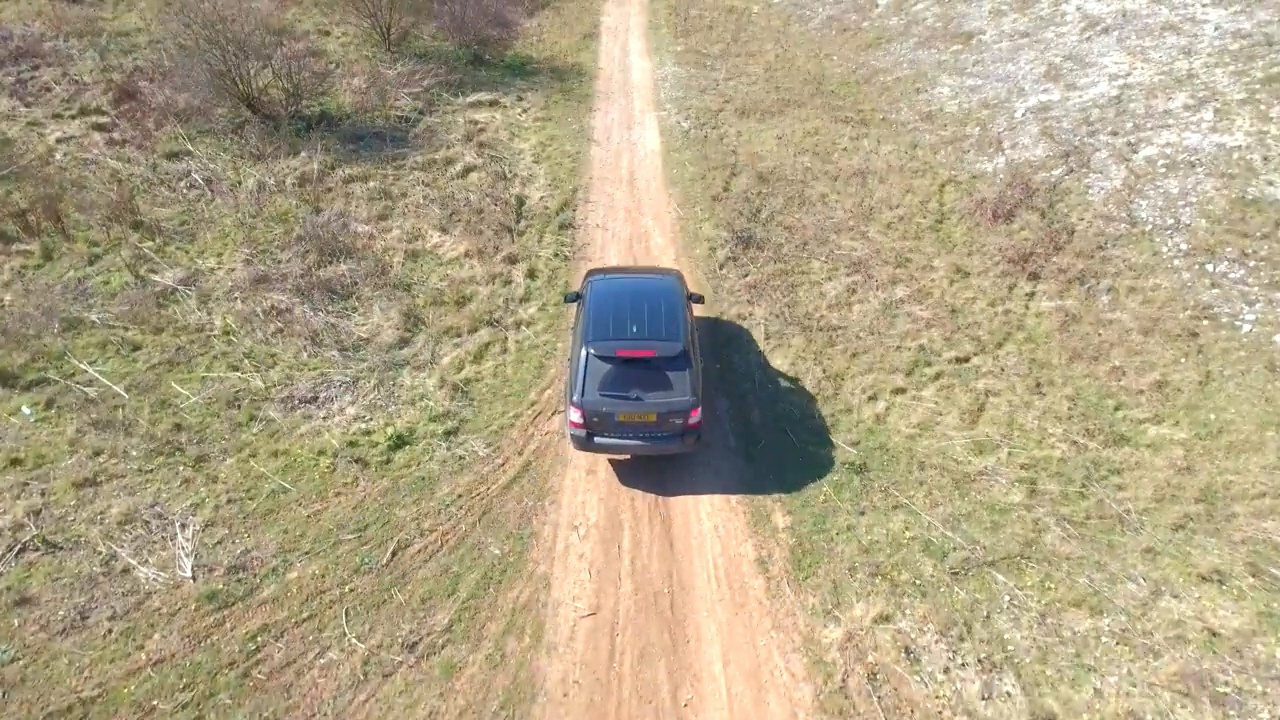araba: (563, 261, 712, 461)
